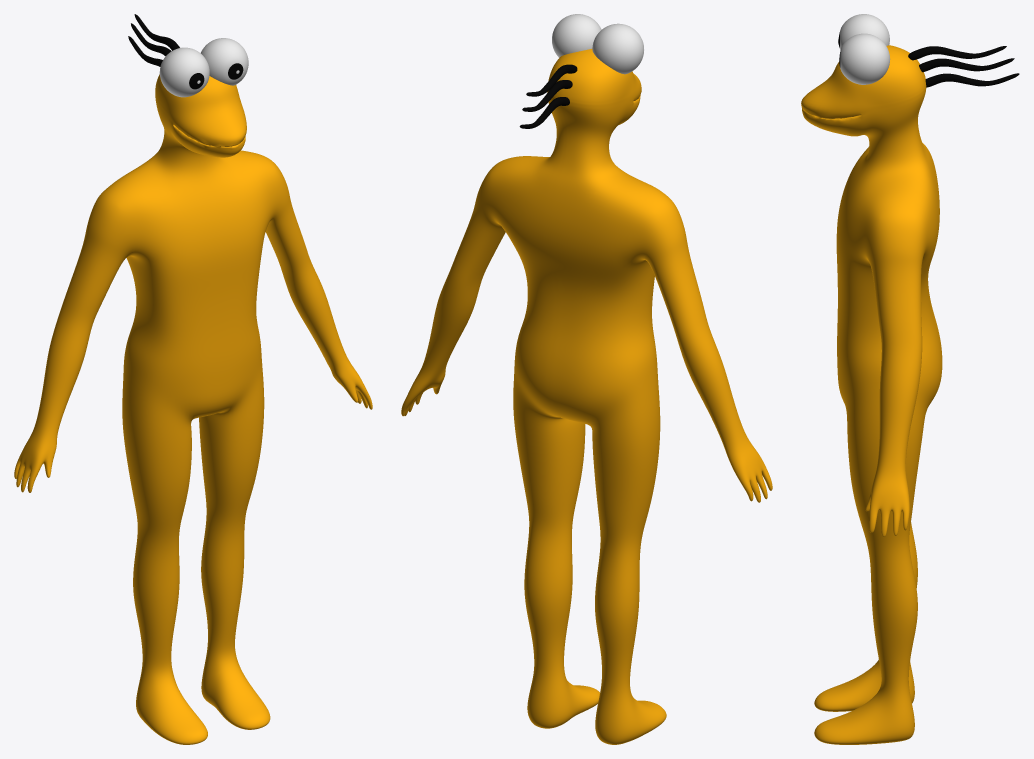
File: graggle.fbx
3 renders of one model, left to right at view 1: azimuth 30°, elevation 25°; view 2: azimuth 150°, elevation 25°; view 3: azimuth 270°, elevation 25°, orthographic. The views are drawn at different scales.
Visible parts, largest first — view 1: Cube; view 2: Cube; view 3: Cube.
Part boxes in pixels (box(x1,y1,x2,y2)): Cube: box(14, 14, 372, 744); Cube: box(401, 14, 772, 744); Cube: box(801, 14, 1019, 744).
Bounding box in the file's own units: 30.67 × 57.22 × 16.3.
